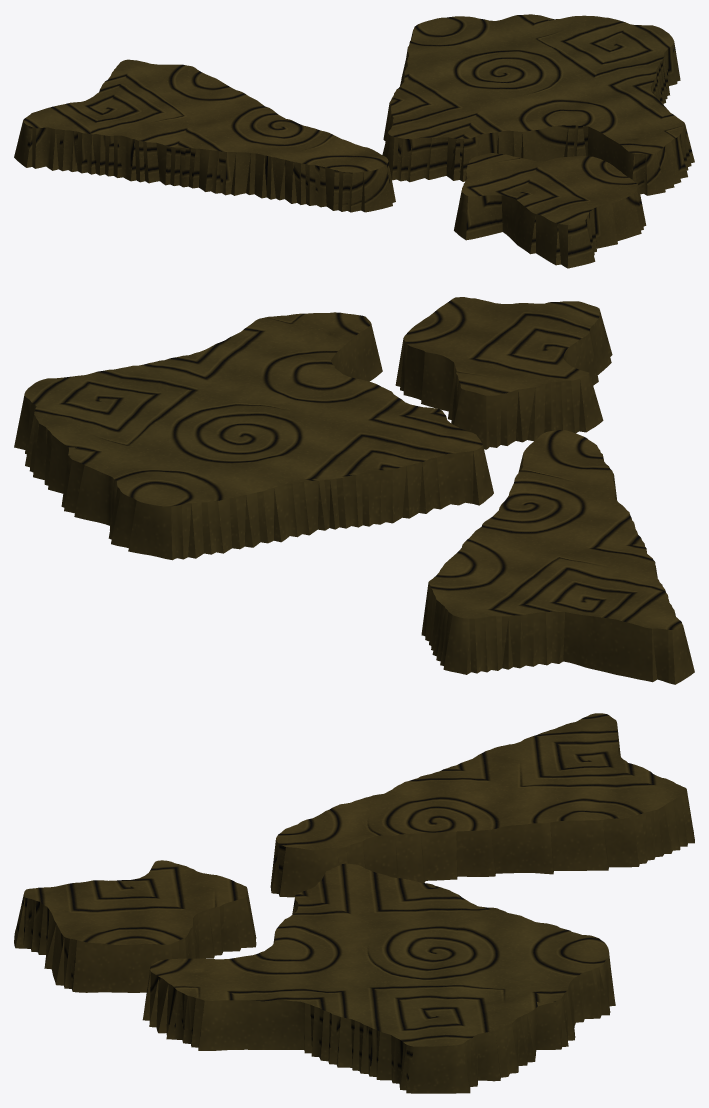
The model's file is CREHenge20.glb.
3 renders of one model, top to bottom at view 1: azimuth 30°, elevation 25°; view 2: azimuth 150°, elevation 25°; view 3: azimuth 270°, elevation 25°, orthographic. The views are drawn at different scales.
Parts seen in each view (by area): view 1: CREHenge20_tops; view 2: CREHenge20_tops; view 3: CREHenge20_tops.
Part boxes in pixels (left/top/right/bottom): CREHenge20_tops: left=14, top=14, right=694, bottom=268; CREHenge20_tops: left=14, top=297, right=694, bottom=684; CREHenge20_tops: left=14, top=713, right=694, bottom=1093.
Bounding box in the file's own units: 6.23 × 0.4266 × 5.31.
Materials: 2 (2 with a texture image).
